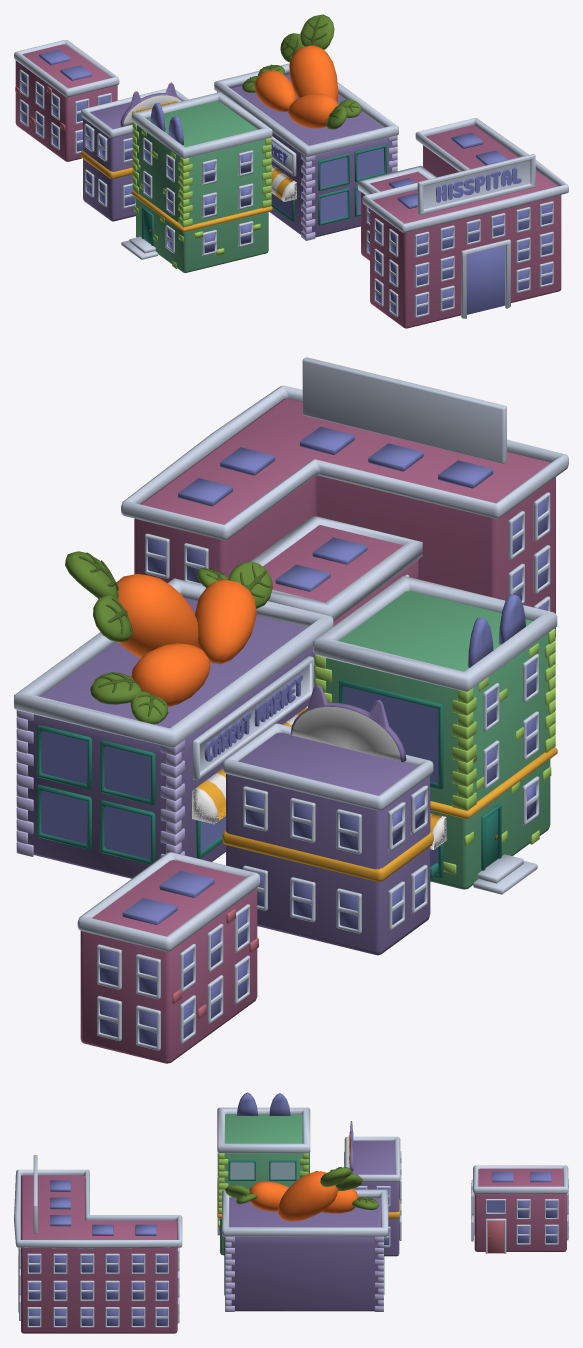
The model's file is 1Piece_Buildings.fbx.
3 views of the same model, one above another, from view 1: azimuth 30°, elevation 25°; view 2: azimuth 150°, elevation 25°; view 3: azimuth 270°, elevation 25° (orthographic). The views are drawn at different scales.
Visible parts, largest first — view 1: Plane.1030, Plane.847, Plane.923, Plane.180, Plane.260; view 2: Plane.1030, Plane.923, Plane.847, Plane.260, Plane.180; view 3: Plane.1030, Plane.923, Plane.180, Plane.847, Plane.260.
Boxes of the visible parts, x1,y1,x2,y2 form: Plane.1030: [358, 118, 568, 328]; Plane.847: [121, 92, 272, 272]; Plane.923: [214, 14, 398, 240]; Plane.180: [14, 40, 119, 161]; Plane.260: [81, 82, 188, 221]; Plane.1030: [121, 357, 568, 636]; Plane.923: [14, 551, 333, 878]; Plane.847: [313, 576, 557, 894]; Plane.260: [222, 684, 433, 955]; Plane.180: [77, 852, 260, 1063]; Plane.1030: [14, 1155, 182, 1333]; Plane.923: [222, 1167, 388, 1311]; Plane.180: [471, 1165, 568, 1253]; Plane.847: [217, 1092, 310, 1255]; Plane.260: [344, 1121, 401, 1256].
Bounding box in the file's own units: 2745 × 1453 × 5117.
